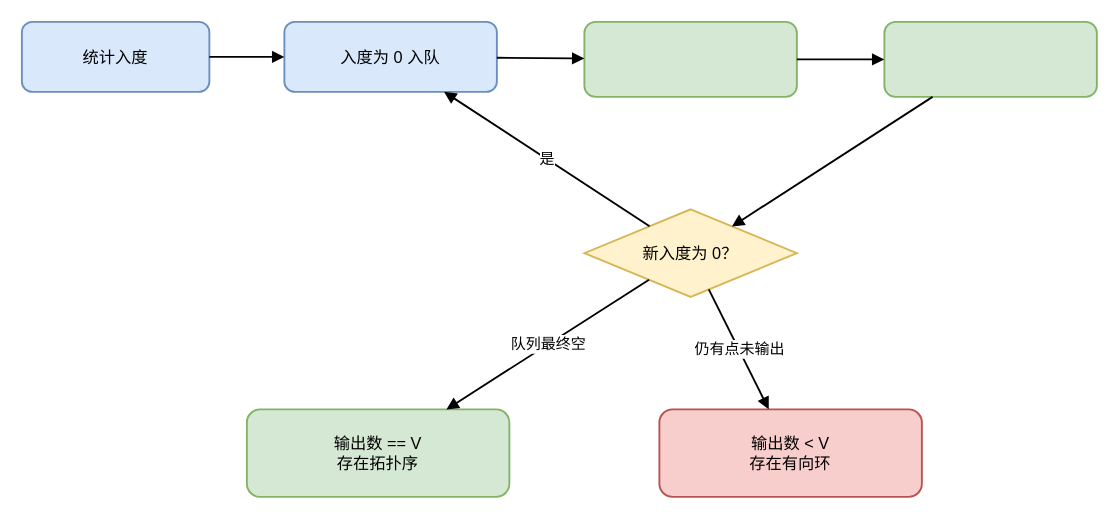
Some shapes in this 1120 by 520 pixel diagram are drawn without their labels. Each missing label, with the centre of its shape:
"弹出节点 加入结果" goes at pixel 690 58.
"遍历出边 后继入度 -1" goes at pixel 990 58.
